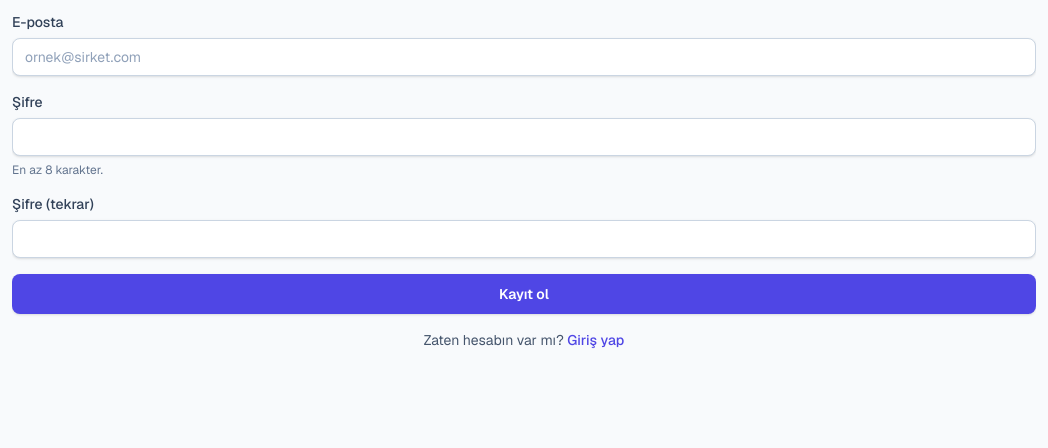
it: SignupForm › şifre tekrarı uyuşmazlığı hatasını gösterir
The width and height of the screenshot is (1048, 448).
Type "a@b.com" into the field labelled "E-posta" at (524, 57), box x1=12 y1=38 x2=1036 y2=76
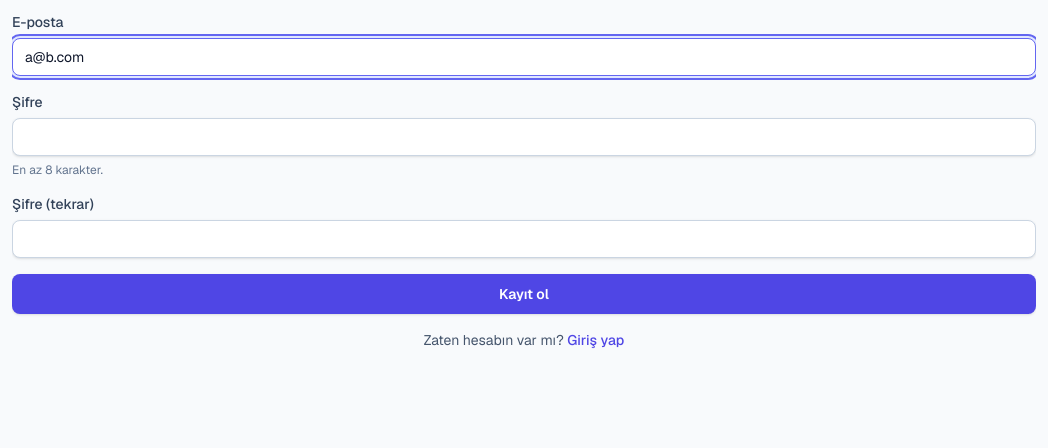
Type "yeterince-uzun" into the password field labelled "Şifre" at (524, 137), box x1=12 y1=118 x2=1036 y2=156
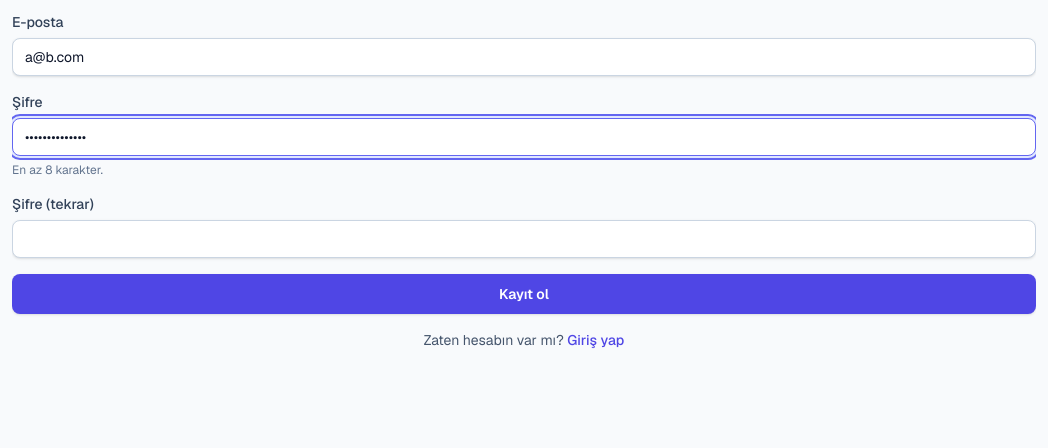
Type "farkli-sifre" into the password field labelled "Şifre (tekrar)" at (524, 239), box x1=12 y1=220 x2=1036 y2=258
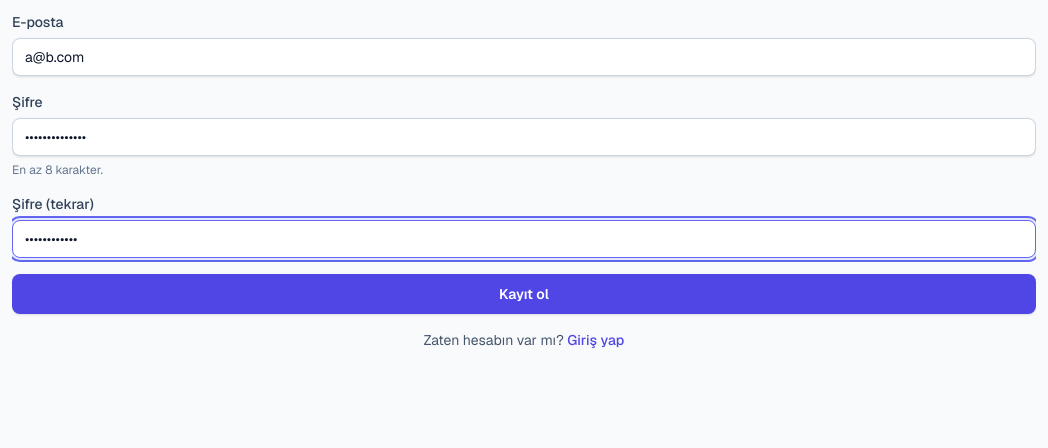
Click the button "Kayıt ol" at (524, 294), box x1=12 y1=274 x2=1036 y2=314
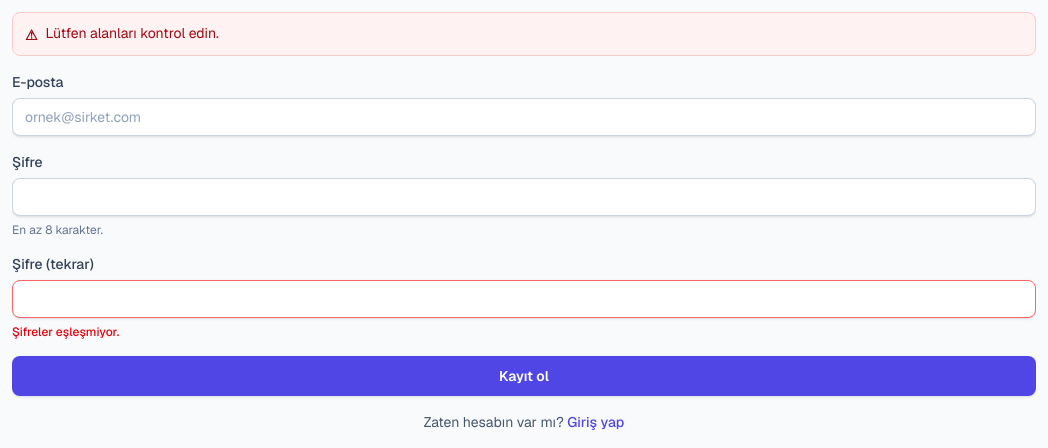
Now the text "Şifreler eşleşmiyor." is shown, box x1=12 y1=324 x2=119 y2=340
